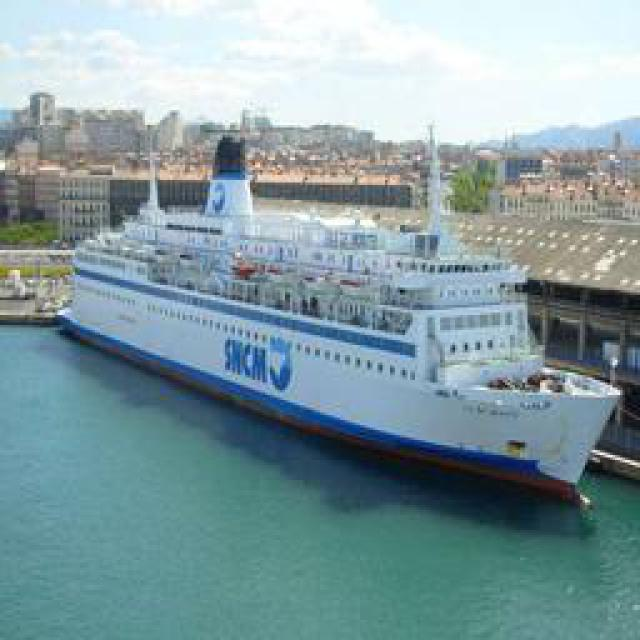Ship: (67, 138, 625, 516)
